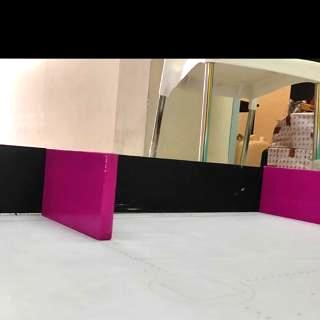xparking: (46, 156, 112, 240), (265, 170, 320, 223)
